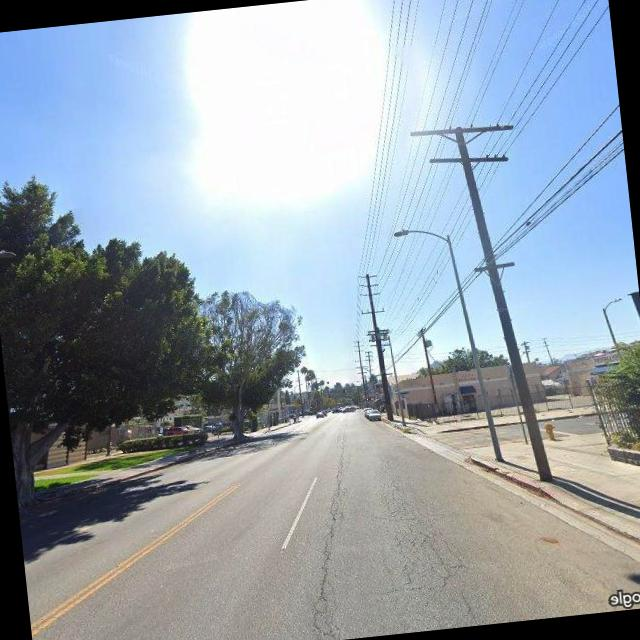crack: (369, 448, 468, 606), (293, 460, 373, 638)
